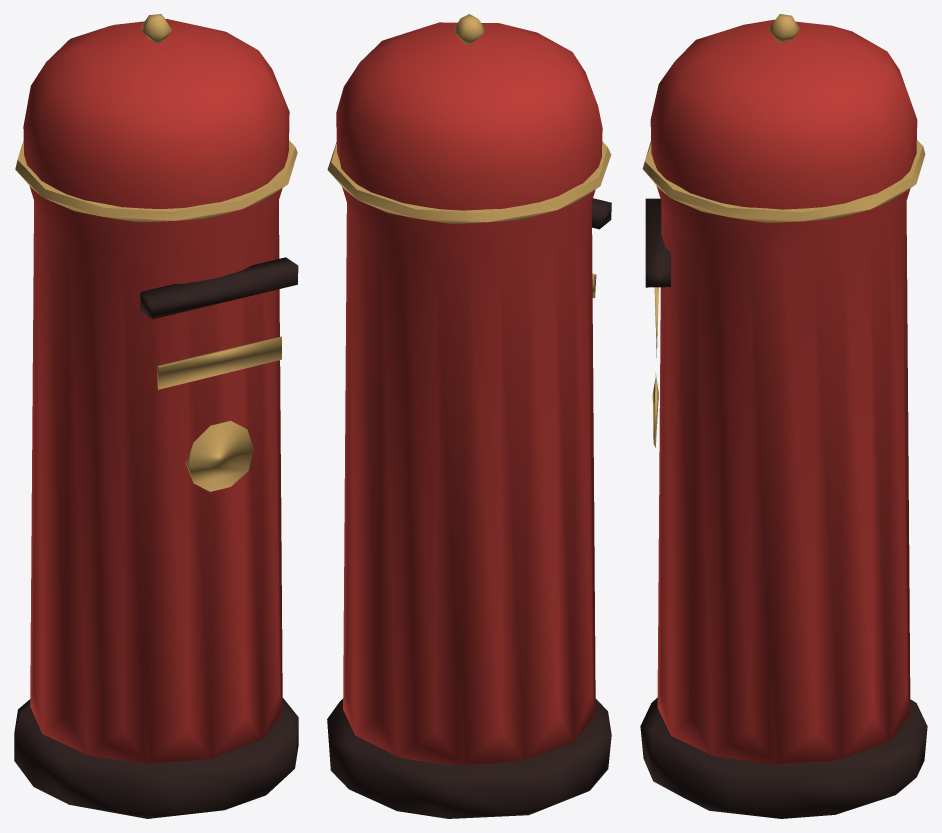
File: post_box_pillar.glb
3 views of the same model, side by side, from view 1: azimuth 30°, elevation 25°; view 2: azimuth 150°, elevation 25°; view 3: azimuth 270°, elevation 25° (orthographic).
Parts seen in each view (by area): view 1: post_box_pillar; view 2: post_box_pillar; view 3: post_box_pillar.
Boxes of the visible parts, x1,y1,x2,y2 form: post_box_pillar: [14, 14, 298, 818]; post_box_pillar: [327, 14, 611, 818]; post_box_pillar: [640, 14, 927, 818].
Size of the model in its own units: 0.56 by 1.61 by 0.56.
